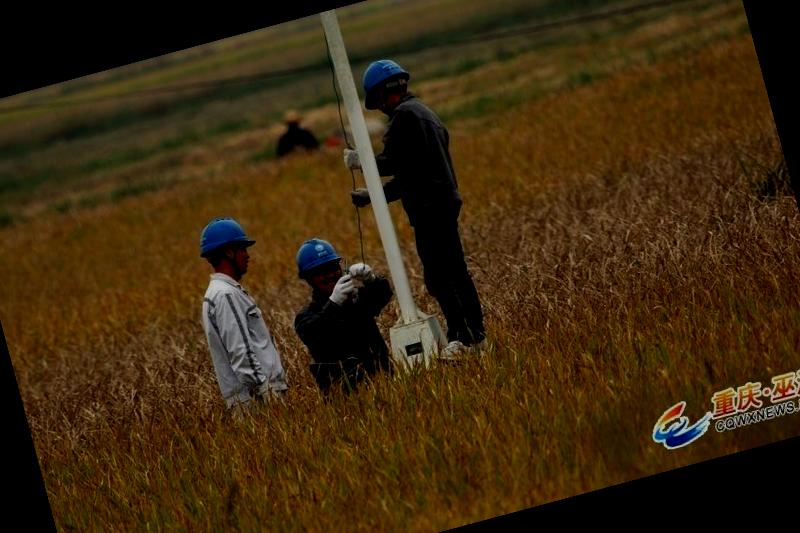helmet: (350, 49, 420, 108), (184, 208, 259, 262), (286, 232, 346, 278)
no_vest: (370, 90, 470, 214), (197, 263, 280, 394)
person: (349, 47, 510, 374), (178, 205, 308, 430), (280, 221, 413, 394)
